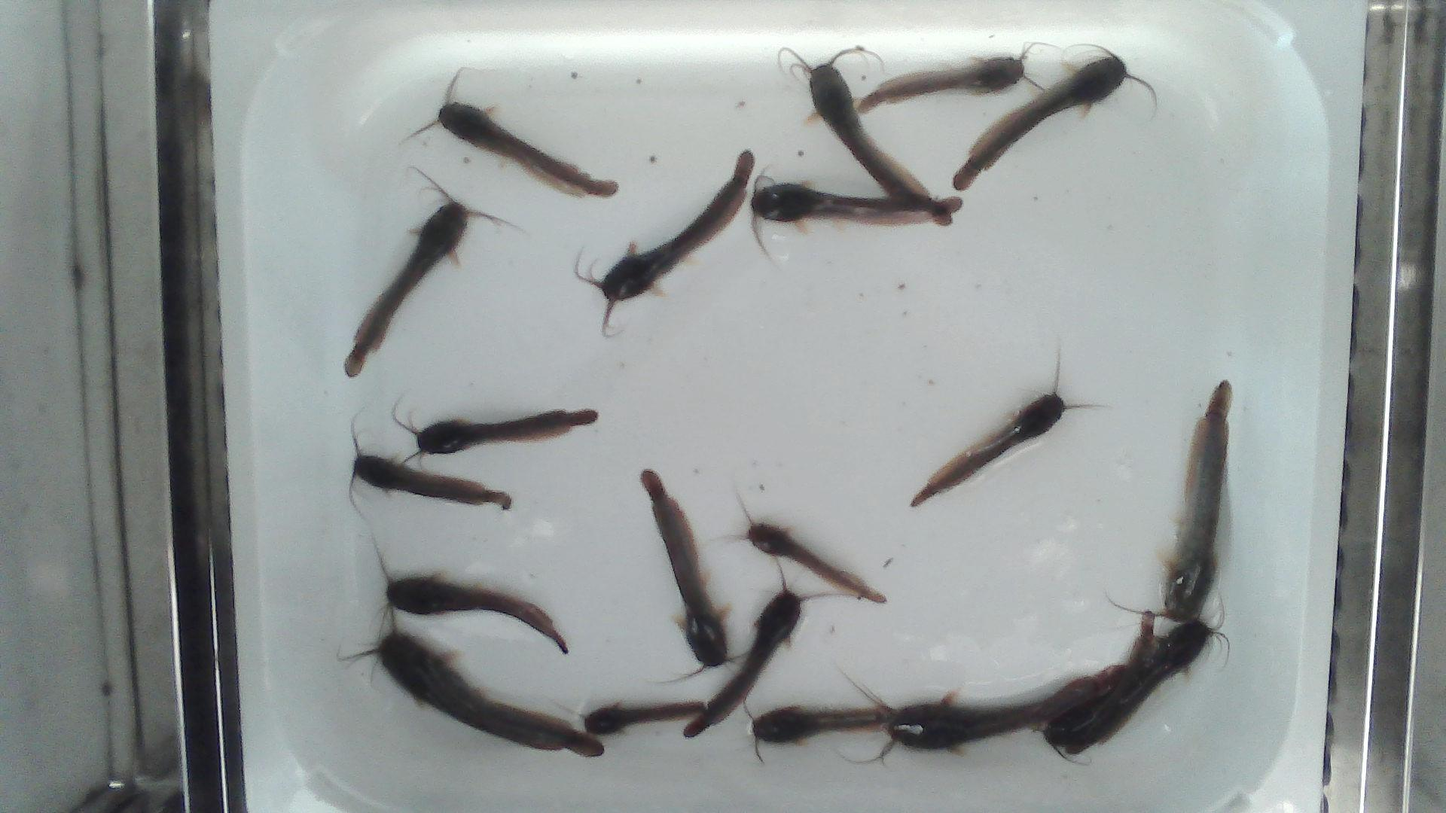lele: (854, 661, 1129, 767), (1062, 589, 1232, 756), (378, 631, 603, 756), (596, 151, 754, 309), (953, 53, 1128, 190), (346, 199, 469, 376), (810, 63, 947, 221), (1041, 607, 1162, 766), (911, 391, 1067, 506), (1158, 382, 1232, 622), (640, 470, 728, 666), (438, 101, 617, 196), (684, 590, 801, 735), (387, 575, 568, 653), (746, 522, 883, 601), (742, 701, 894, 765), (857, 58, 1024, 113), (354, 454, 511, 508), (415, 409, 597, 453), (752, 183, 956, 222), (584, 702, 706, 735)
